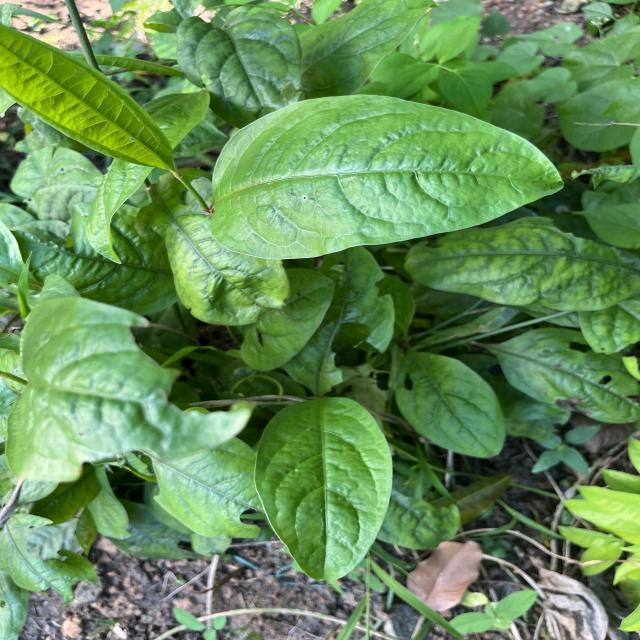Plumbago indica: (201, 89, 567, 265), (0, 21, 184, 181), (252, 389, 399, 586), (400, 211, 640, 316), (386, 346, 510, 464)
